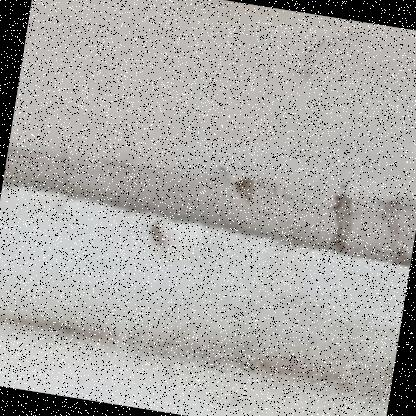Crack: (0, 68, 415, 301)
